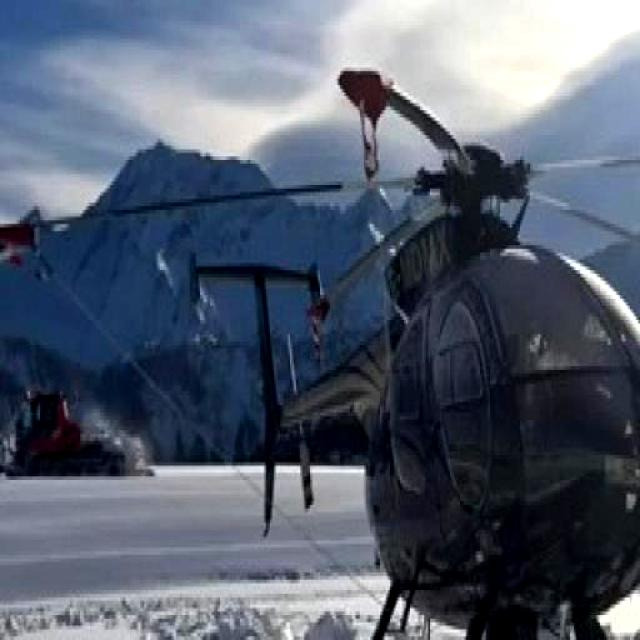drone: (195, 66, 640, 640)
